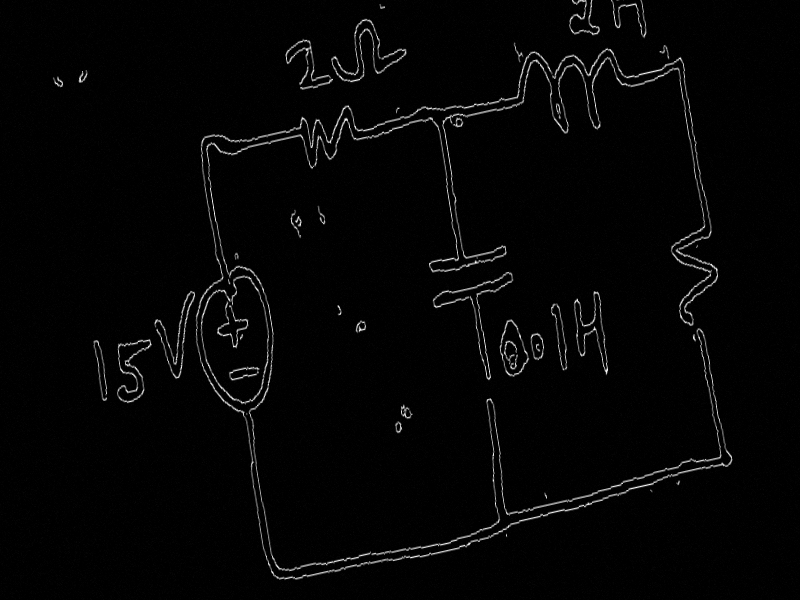-: (225, 356, 261, 388)
0: (527, 325, 548, 366)
1: (546, 299, 575, 378), (89, 334, 113, 406)
2: (281, 30, 335, 98), (493, 312, 534, 383), (560, 0, 604, 45)
5: (107, 330, 163, 411)
H: (566, 285, 615, 384)
V: (149, 287, 209, 387)
